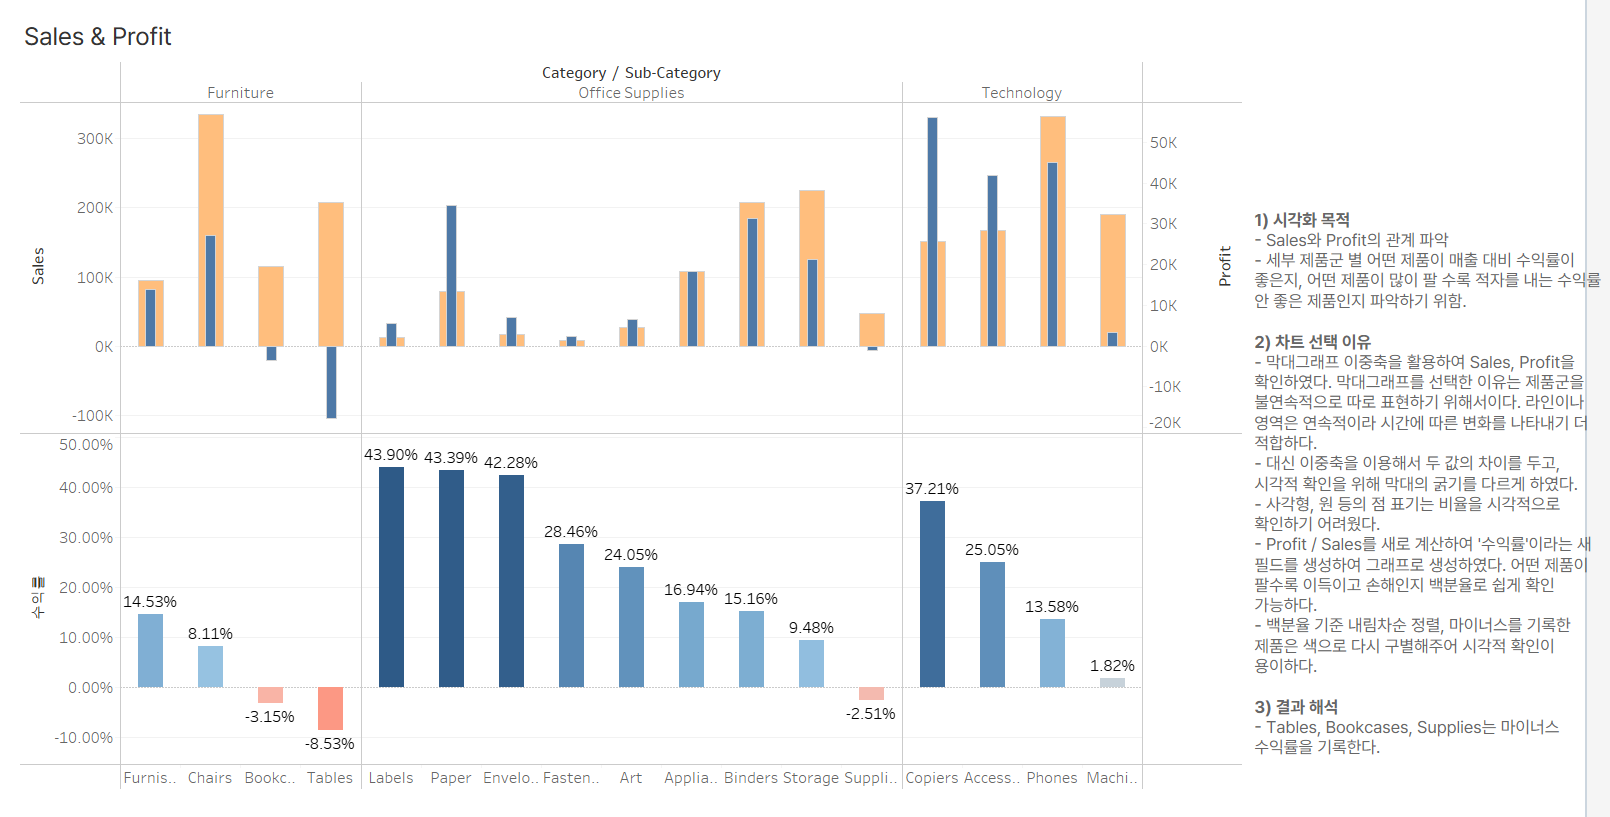

Layout of this report page (visuals, bound fields, positions):
{"tool":"tableau","page":{"name":"대시보드 1-2","canvas":[1600,900],"ordinal":1},"visuals":[{"type":"legend","title":"sales-profit","param":"[Sample - Superstore].[:Measure Names]","box":[1255,17,140,85]},{"type":"worksheet","title":"sales-profit","mark":"Bar","rows":["Sales","Profit","Calculation_1898548771528589320"],"cols":["Category","Sub-Category"],"box":[33,33,1224,773]}]}

Visuals, with their boxes on the page's 1600x900 design canvas (x1, y1, x2, y2). These are canvas units, not pixel positions in the 1610x817 screenshot, which may show the page scaled, cropped or inside an application window:
"sales-profit" legend: [left=1255, top=17, right=1395, bottom=102]
"sales-profit" worksheet (Bar marks): [left=33, top=33, right=1257, bottom=806]
